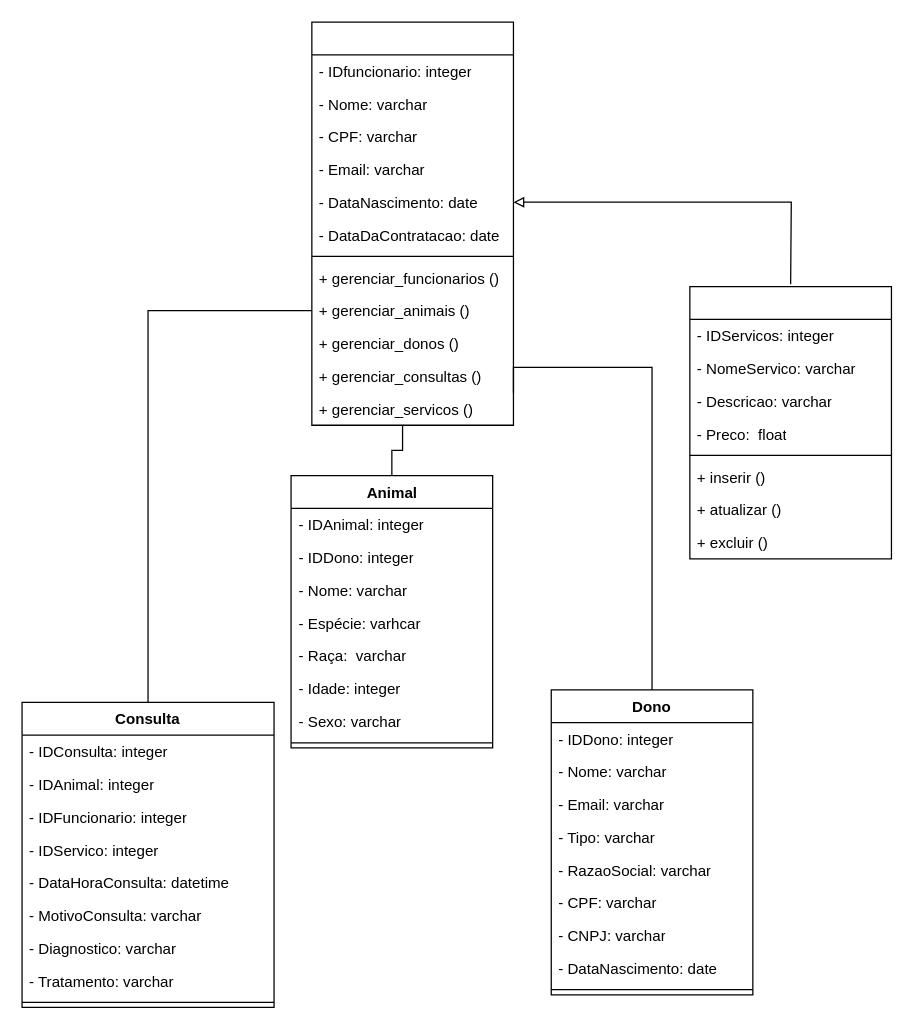
The diagram is 914 pixels wide and 1029 high, and some of its shapes have lost their labels. Here are the shapes that lost their labels. From the top down, the box of each, then its label:
(311, 21, 513, 425): Funcionário
(689, 285, 891, 559): Serviço
